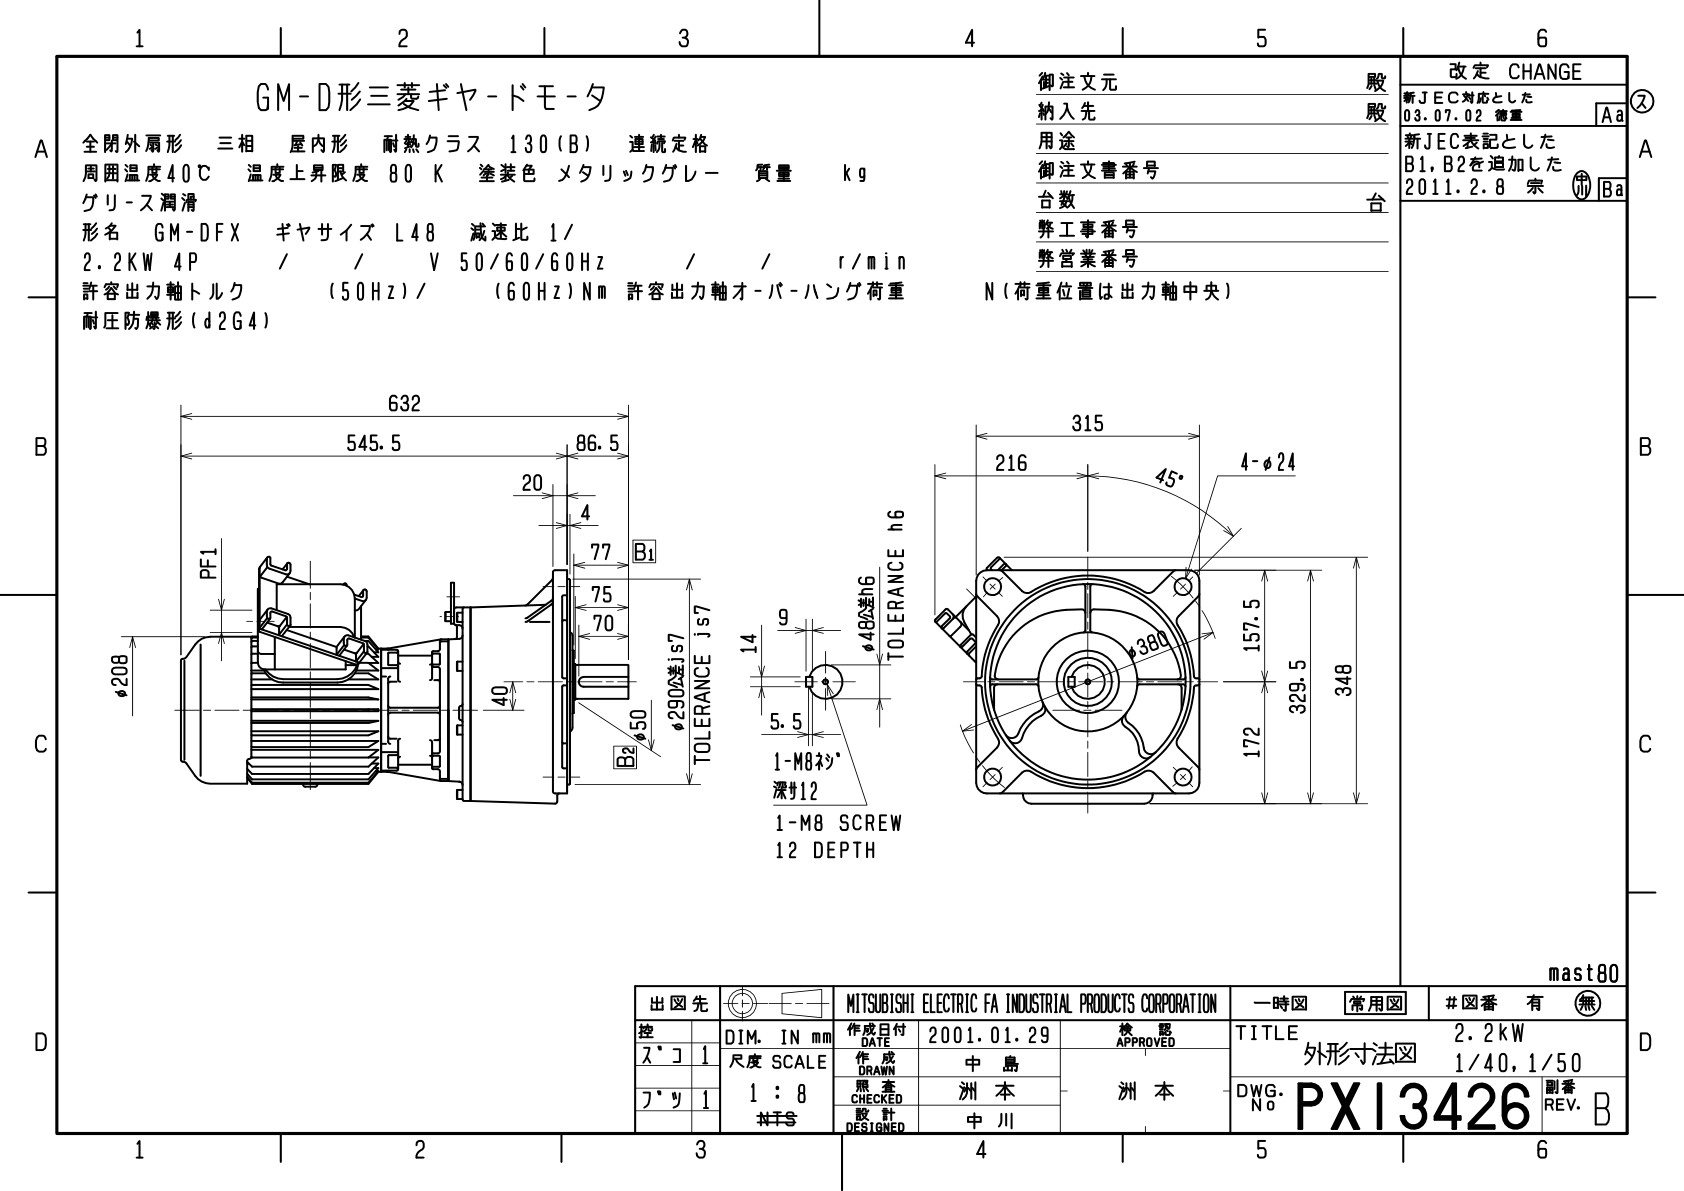GM_SP_屋内＿三相_フランジ: (70, 357, 1383, 898)
